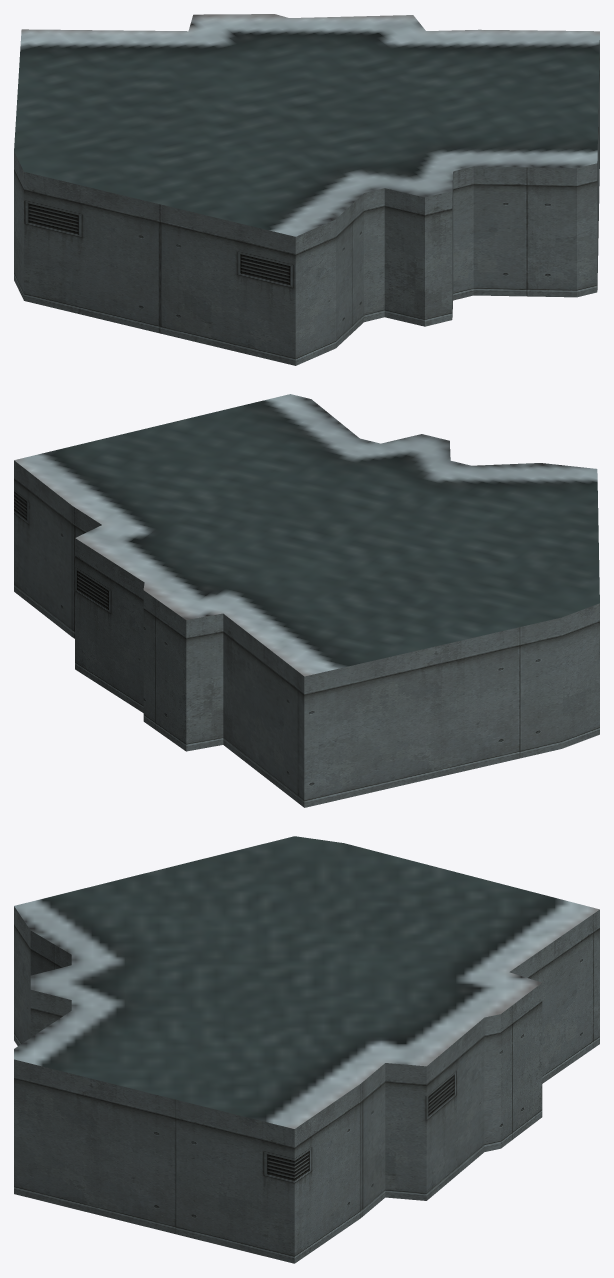
File: medium_roof52.glb
The picture shows the model from 3 angles, top to bottom: view 1: azimuth 30°, elevation 25°; view 2: azimuth 150°, elevation 25°; view 3: azimuth 270°, elevation 25°; orthographic projection. The views are drawn at different scales.
Visible parts, largest first — view 1: buildings/saxarba/medium/medium_roof52; view 2: buildings/saxarba/medium/medium_roof52; view 3: buildings/saxarba/medium/medium_roof52.
Boxes of the visible parts, left/top/right/bottom form: buildings/saxarba/medium/medium_roof52: left=14, top=14, right=599, bottom=365; buildings/saxarba/medium/medium_roof52: left=14, top=394, right=599, bottom=807; buildings/saxarba/medium/medium_roof52: left=14, top=836, right=599, bottom=1263.
Bounding box in the file's own units: 84 × 18 × 71.
